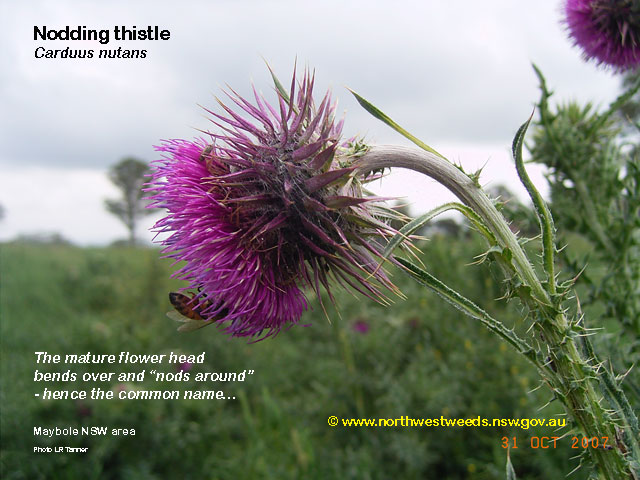thistle: (139, 74, 414, 348), (554, 2, 640, 79)
